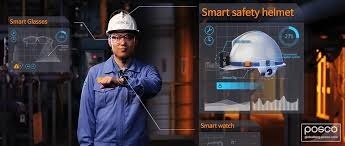helmet: (103, 13, 139, 36)
person with partial safety: (79, 10, 154, 146)
